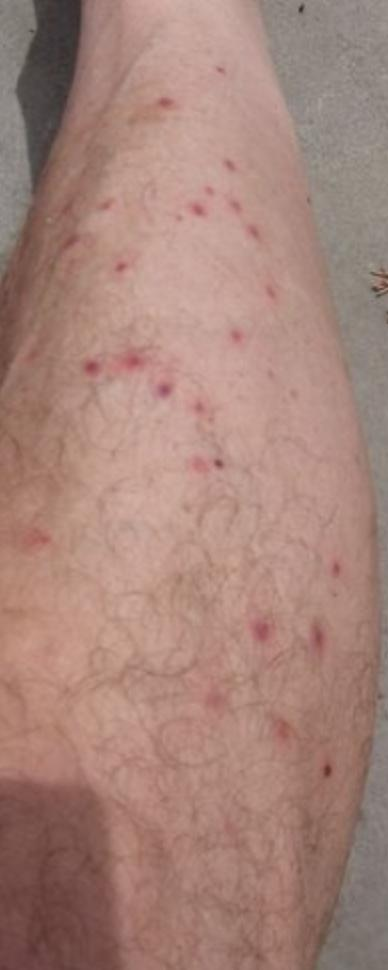Gnat-bites: (17, 515, 59, 570), (174, 450, 230, 490), (246, 607, 285, 657), (214, 148, 249, 188), (184, 193, 217, 230), (146, 90, 185, 120), (74, 353, 107, 387), (267, 717, 295, 752), (304, 622, 335, 652), (201, 688, 232, 717), (107, 255, 135, 282), (259, 282, 284, 310), (244, 223, 269, 250), (51, 198, 82, 217), (156, 380, 177, 408), (231, 325, 252, 348), (57, 235, 85, 252), (122, 357, 145, 377), (101, 192, 119, 217), (319, 762, 335, 782), (329, 560, 345, 580), (196, 402, 212, 420), (202, 183, 217, 200), (232, 200, 245, 215), (216, 67, 227, 78)
